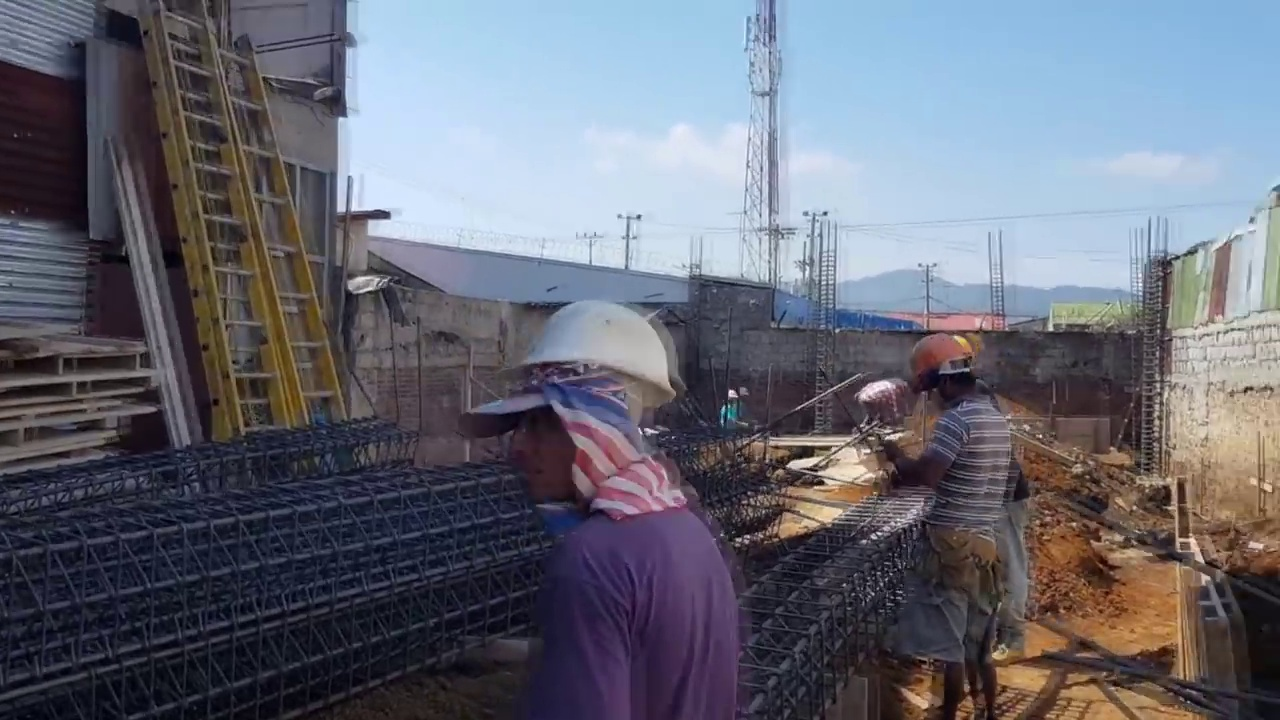helmet: (523, 308, 681, 412), (907, 333, 966, 391), (726, 390, 738, 399)
helmet-on: (478, 308, 686, 526), (907, 334, 983, 413), (726, 389, 739, 405)
person: (483, 288, 744, 711), (862, 333, 1021, 667), (854, 375, 906, 428), (719, 389, 739, 428)
